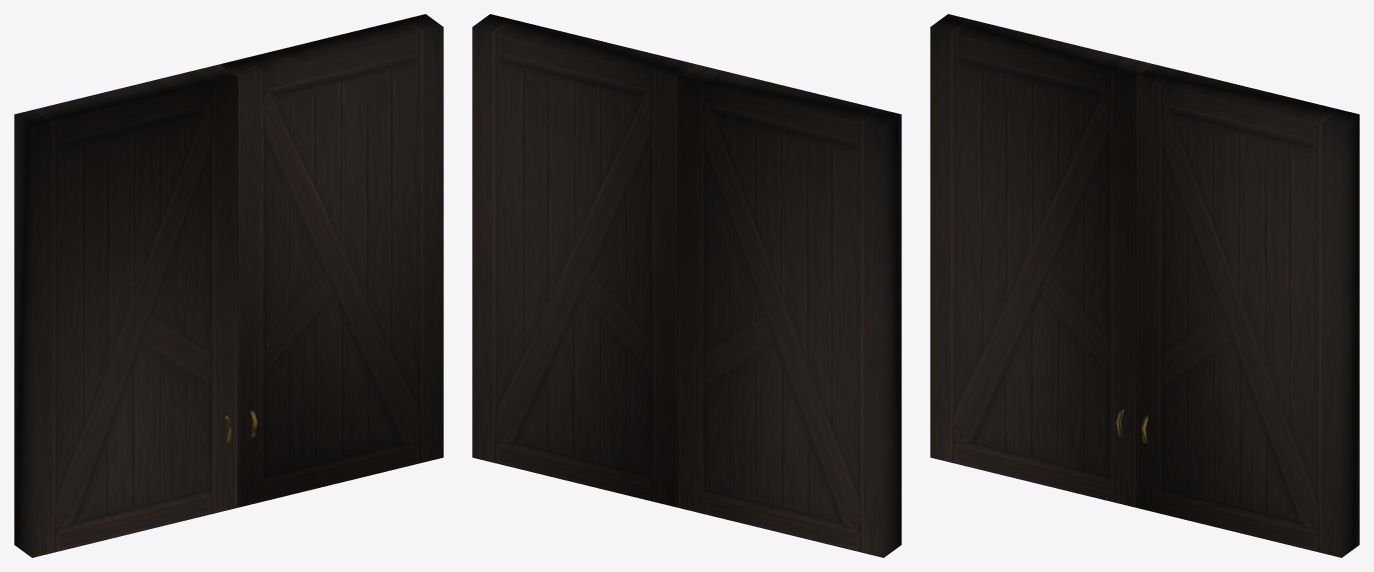
The model's file is door.obj.
The picture shows the model from 3 angles, left to right: view 1: azimuth 30°, elevation 25°; view 2: azimuth 150°, elevation 25°; view 3: azimuth 330°, elevation 25°; orthographic projection.
Parts seen in each view (by area): view 1: rdmobj00; view 2: rdmobj00; view 3: rdmobj00.
Part boxes in pixels (<box>): rdmobj00: <box>14,14,443,557</box>; rdmobj00: <box>472,14,901,557</box>; rdmobj00: <box>930,14,1359,557</box>.
Size of the model in its own units: 400 by 400 by 39.
Materials: 2 (2 with a texture image).
